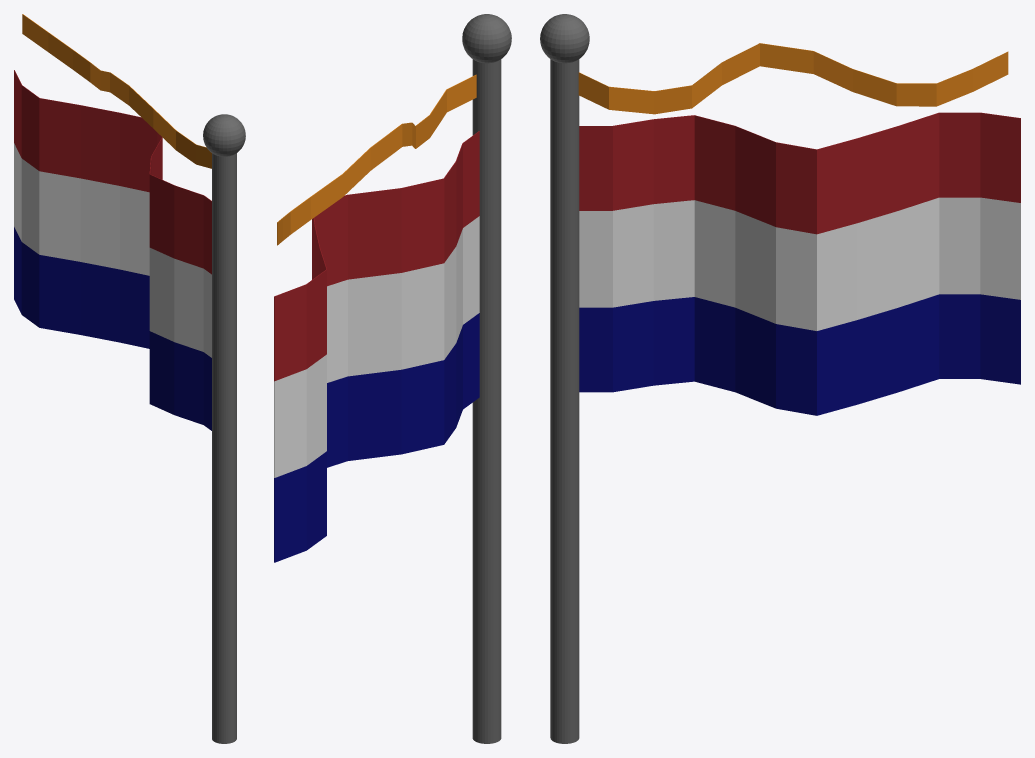
The model's file is flag(fix).fbx.
3 views of the same model, side by side, from view 1: azimuth 30°, elevation 25°; view 2: azimuth 150°, elevation 25°; view 3: azimuth 270°, elevation 25° (orthographic). The views are drawn at different scales.
Visible parts, largest first — view 1: Plane, Cylinder, Sphere; view 2: Plane, Cylinder, Sphere; view 3: Plane, Cylinder, Sphere.
Part boxes in pixels (box(x1,y1,x2,y2)): Plane: box(14, 14, 211, 430); Cylinder: box(212, 153, 236, 743); Sphere: box(203, 114, 245, 156); Plane: box(274, 74, 479, 562); Cylinder: box(472, 59, 501, 743); Sphere: box(462, 14, 511, 63); Plane: box(578, 43, 1020, 415); Cylinder: box(550, 59, 579, 743); Sphere: box(540, 14, 589, 63).
Size of the model in its own units: 68.59 by 621 by 375.
